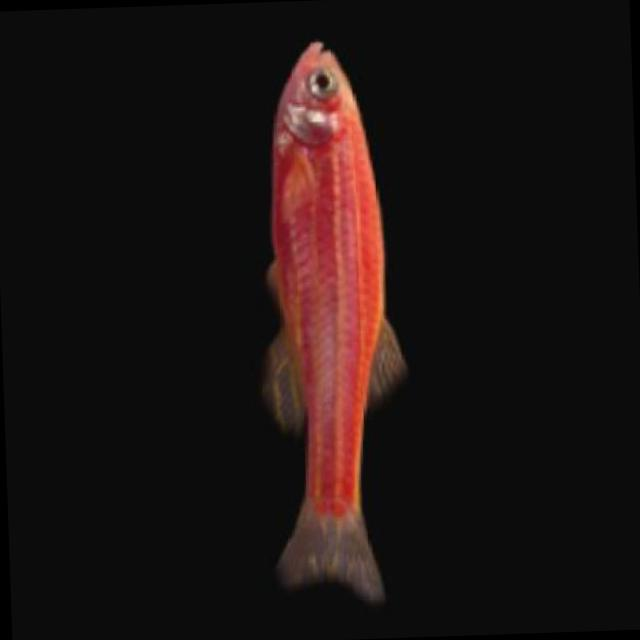ZebraFish: (256, 29, 406, 598)
